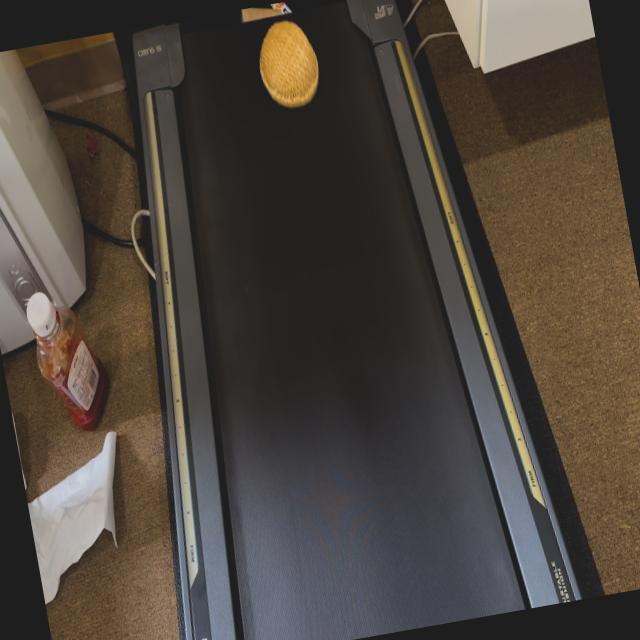Trash: (252, 15, 324, 110)
